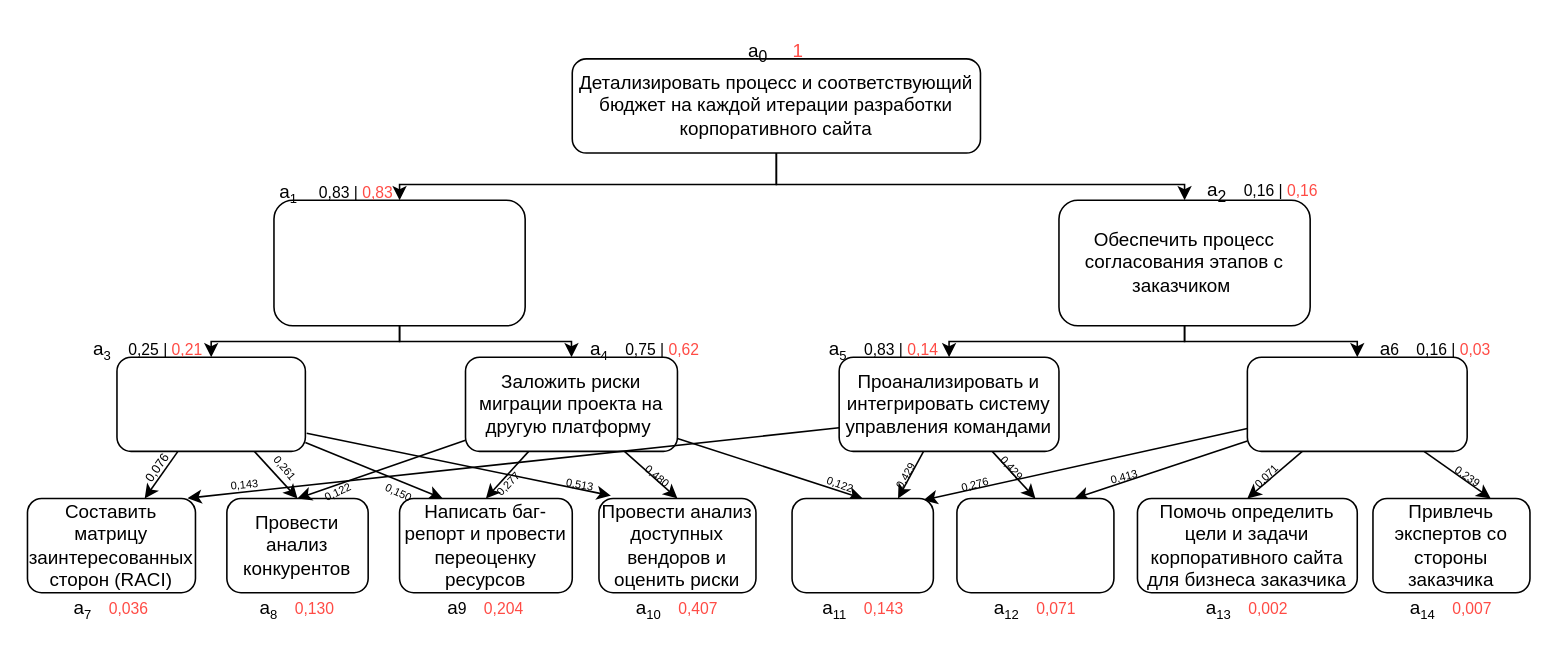
Image size: 1557x650. Some labels were removed from this diagram. The centre of each missing label's shape, as x and y in pixels:
Ввести систему мониторинга лояльности заказчика: (1356,403)
Назначить расписание встреч с заказчиком: (1034,545)
Обеспечить систему управления изменениями проекта: (398,262)
Обеспечить систему управления требованиями: (210,403)
Составить чек-лист вопросов заказчику: (861,545)
